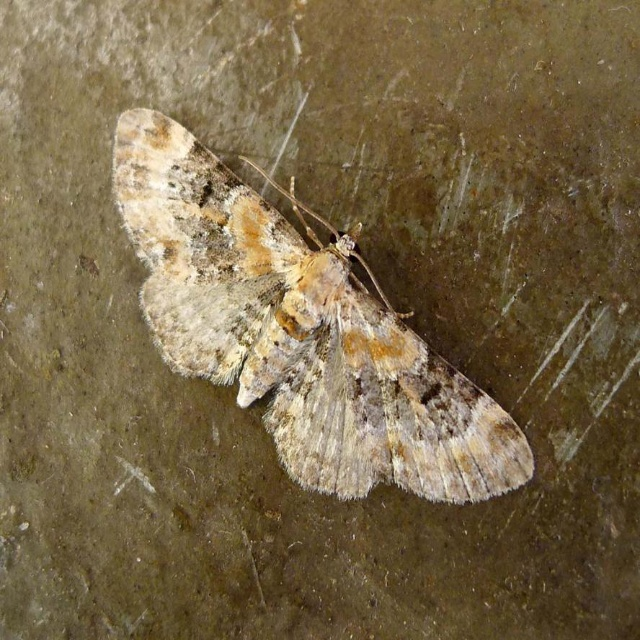Moths and butterflies: (109, 107, 536, 506)
